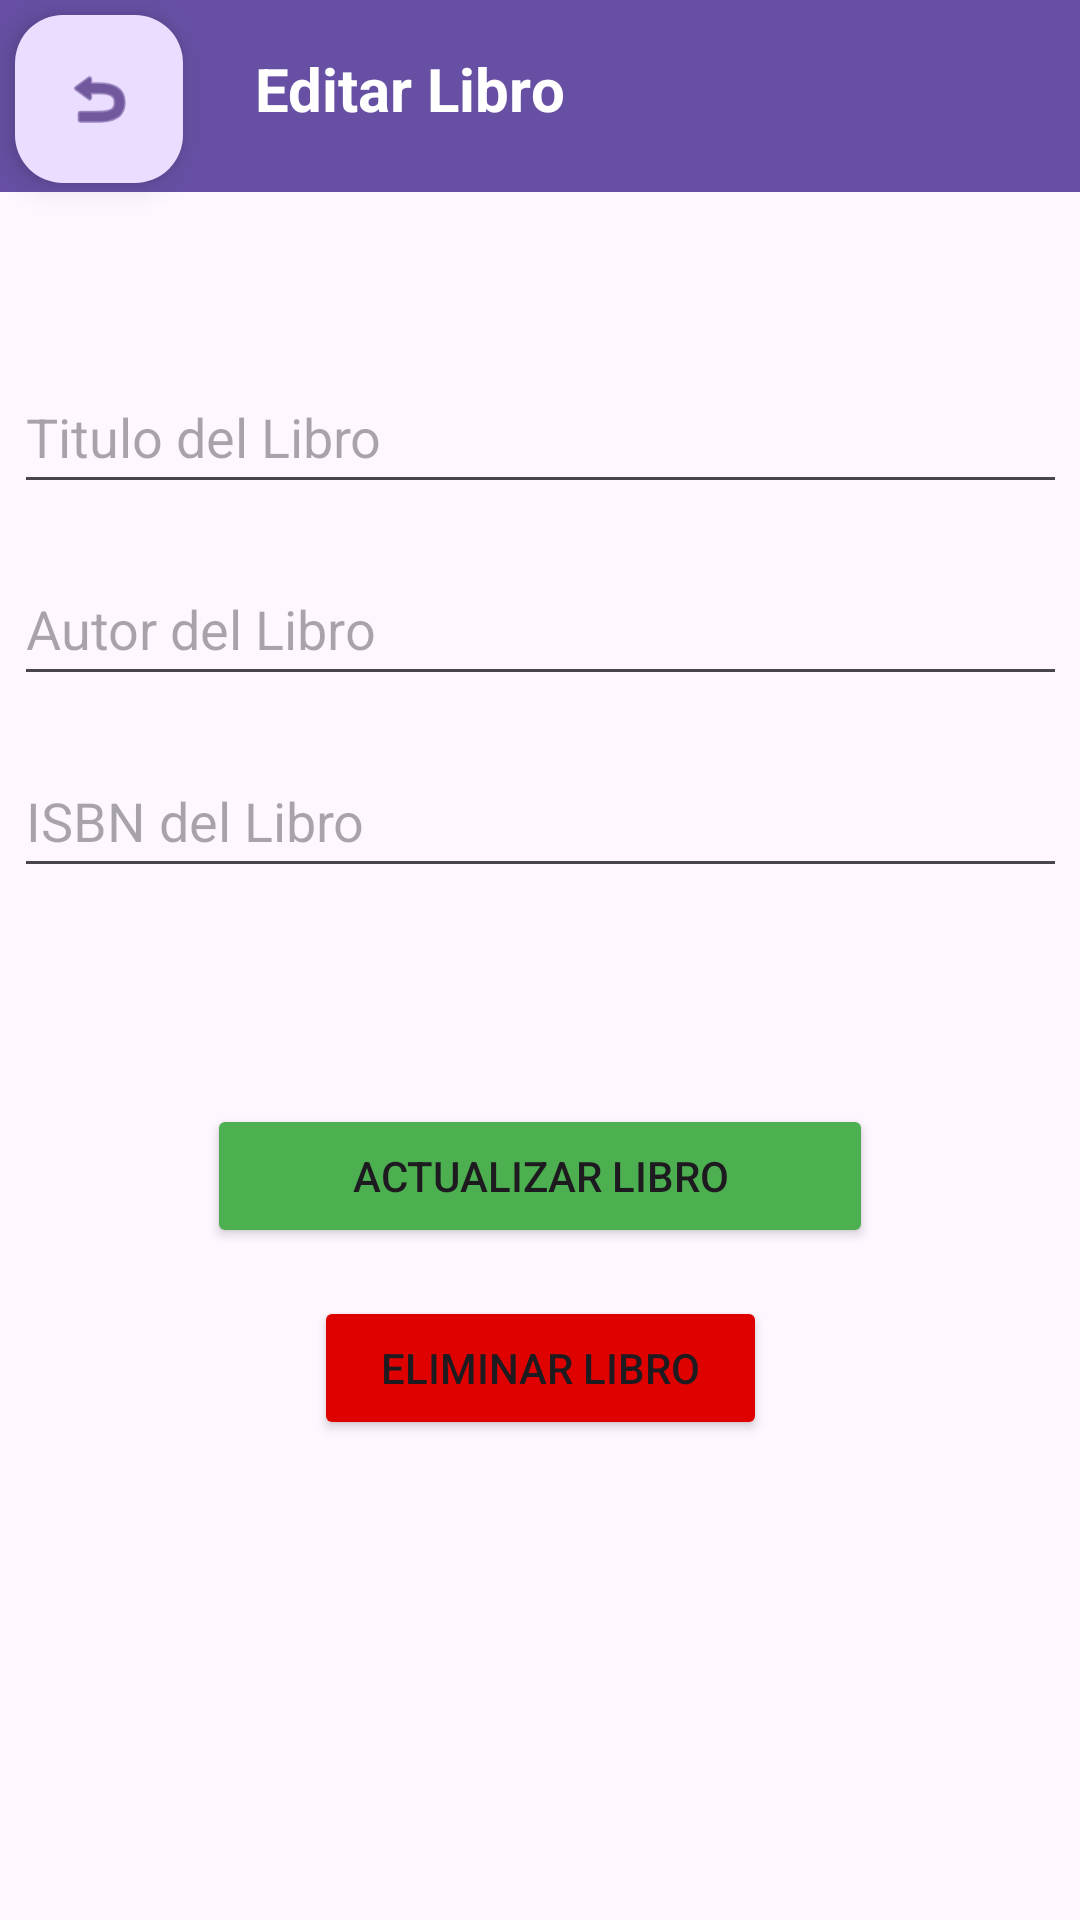

Icon click points for this 1080 × 1920 phone screenshot, format (x,y):
revert: (99,99)
